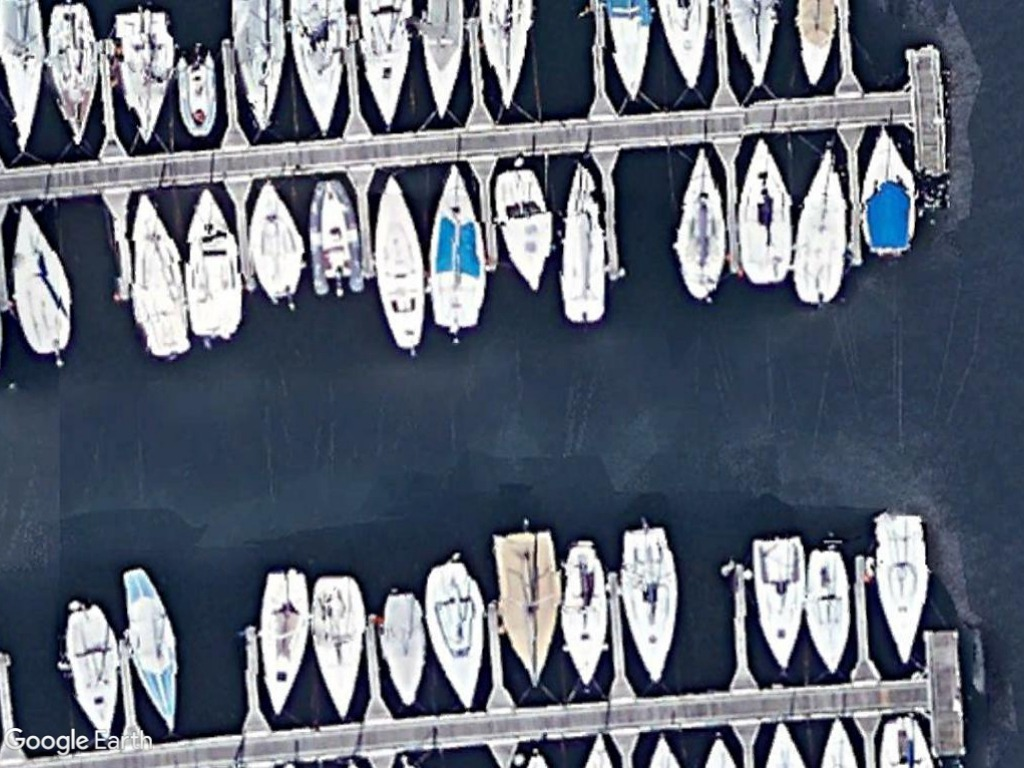boat: (125, 184, 193, 360), (490, 523, 560, 693), (424, 161, 490, 338), (177, 183, 245, 348), (5, 201, 75, 360), (370, 174, 431, 354), (617, 517, 682, 683), (120, 564, 183, 733), (869, 506, 933, 670), (553, 157, 612, 330), (423, 557, 489, 707), (667, 144, 727, 304), (54, 596, 121, 739), (735, 134, 796, 290), (487, 164, 556, 298), (790, 145, 846, 308), (855, 122, 919, 261), (746, 532, 808, 675), (256, 562, 311, 723), (311, 569, 367, 723), (244, 175, 307, 307), (560, 534, 616, 682), (301, 175, 366, 301), (800, 544, 856, 675), (378, 587, 427, 712), (173, 44, 221, 143)
